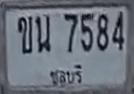4: (112, 12, 123, 49)
5: (80, 13, 93, 51)
7: (63, 13, 77, 52)
8: (96, 13, 108, 50)
A02: (17, 15, 32, 53)
A25: (35, 14, 50, 52)
CBI: (45, 62, 85, 88)
